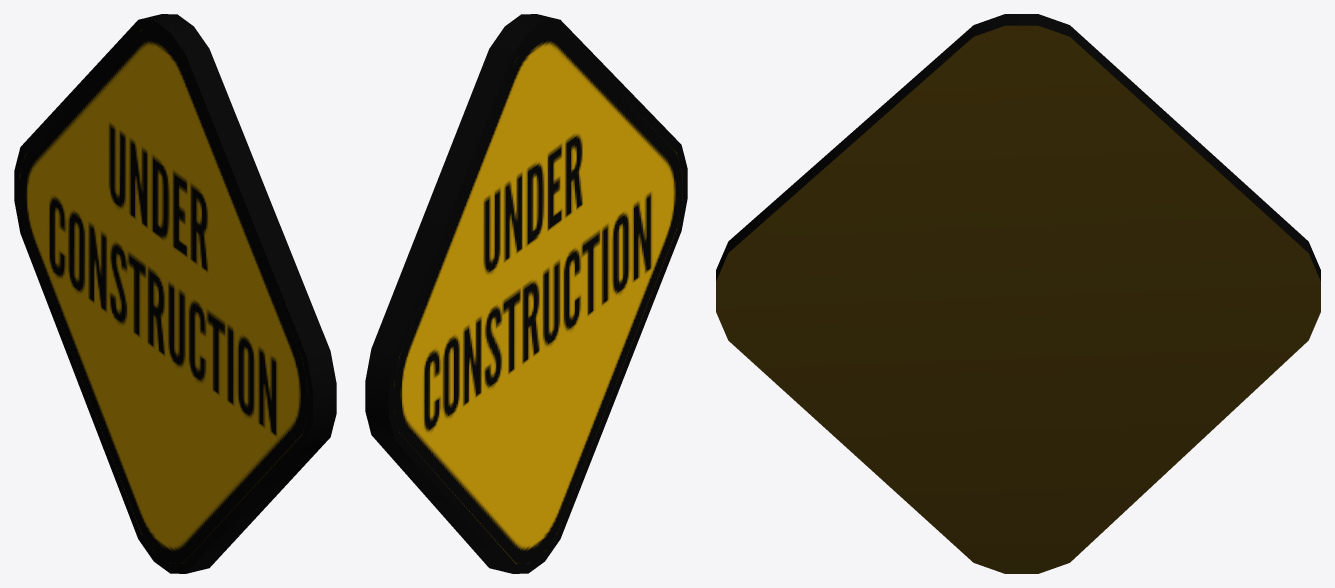
The model's file is Sign_C_5.glb.
The picture shows the model from 3 angles, left to right: view 1: azimuth 30°, elevation 25°; view 2: azimuth 150°, elevation 25°; view 3: azimuth 270°, elevation 25°; orthographic projection.
Visible parts, largest first — view 1: Sign_C_5; view 2: Sign_C_5; view 3: Sign_C_5.
Boxes of the visible parts, x1,y1,x2,y2 form: Sign_C_5: [14, 14, 336, 573]; Sign_C_5: [365, 14, 687, 573]; Sign_C_5: [716, 14, 1320, 573].
Bounding box in the file's own units: 0.0301 × 0.6568 × 0.6568.
1 material, 1 textured.
